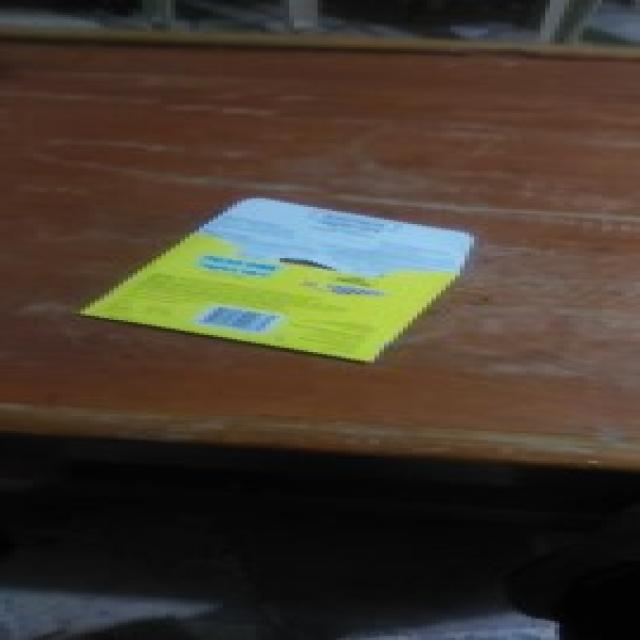Cacat: (81, 195, 474, 363)
